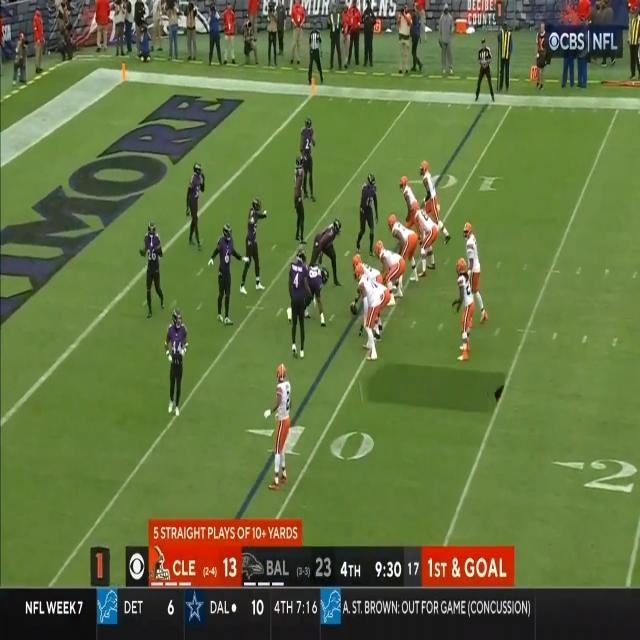players: (270, 365, 296, 491), (287, 248, 314, 362), (210, 225, 238, 328), (163, 302, 187, 422), (462, 222, 489, 325), (356, 272, 386, 364), (138, 221, 164, 324), (311, 212, 342, 287), (389, 218, 423, 282), (400, 177, 426, 257), (357, 172, 380, 262), (419, 161, 447, 232), (457, 262, 477, 361), (242, 189, 262, 288), (378, 242, 410, 302), (182, 162, 205, 244), (416, 210, 444, 274), (357, 260, 388, 312), (301, 108, 315, 201), (294, 154, 306, 244)
